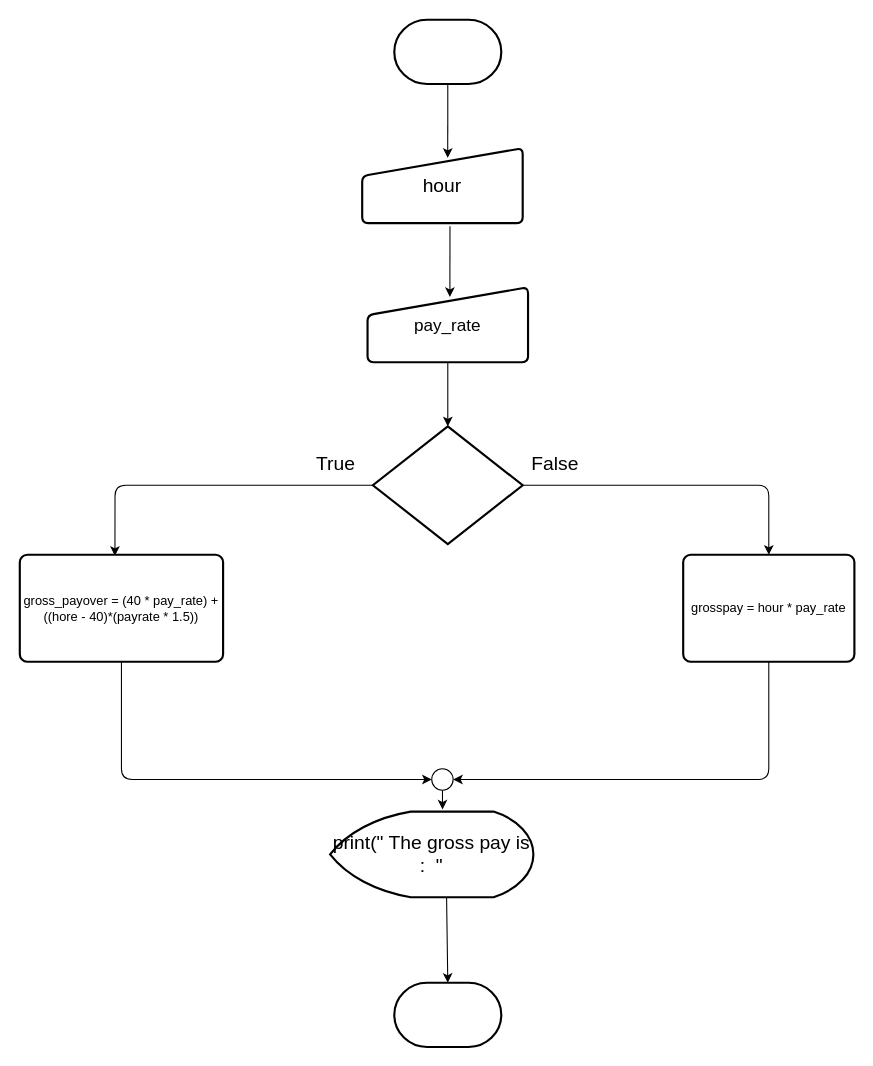
This 873x1066 diagram has some shape labels left out. Each missing label, with the centre of its shape:
begin: the point at 447,51
End: the point at 447,1014
hour > 40: the point at 447,485
